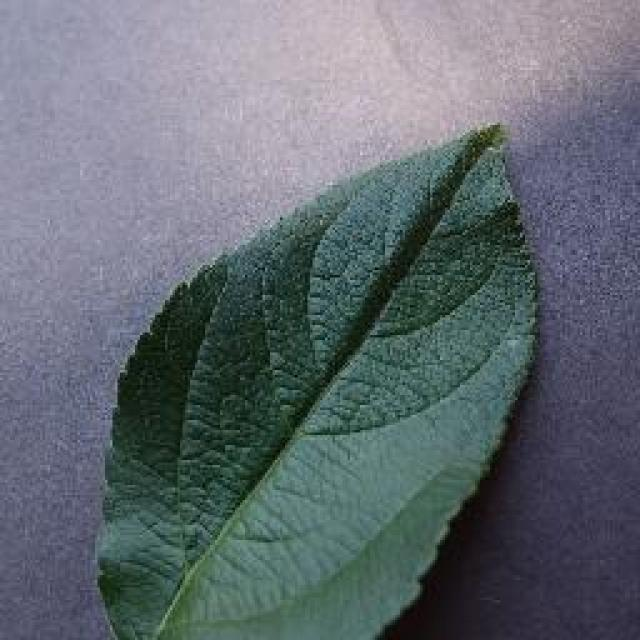Apple___healthy: (77, 107, 550, 640)
